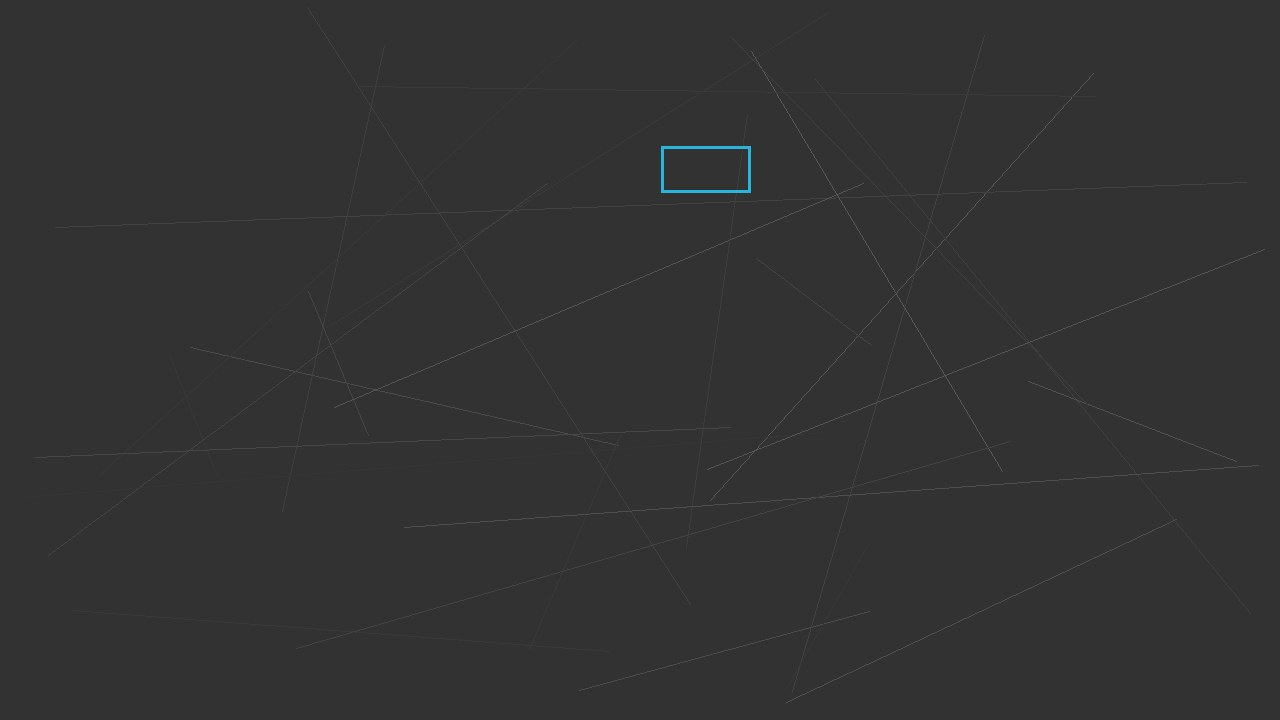D10: (661, 146, 750, 192)
